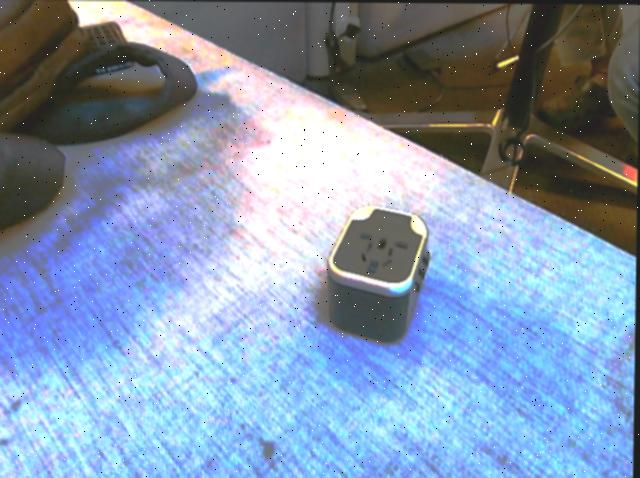adapter: (325, 203, 431, 343)
